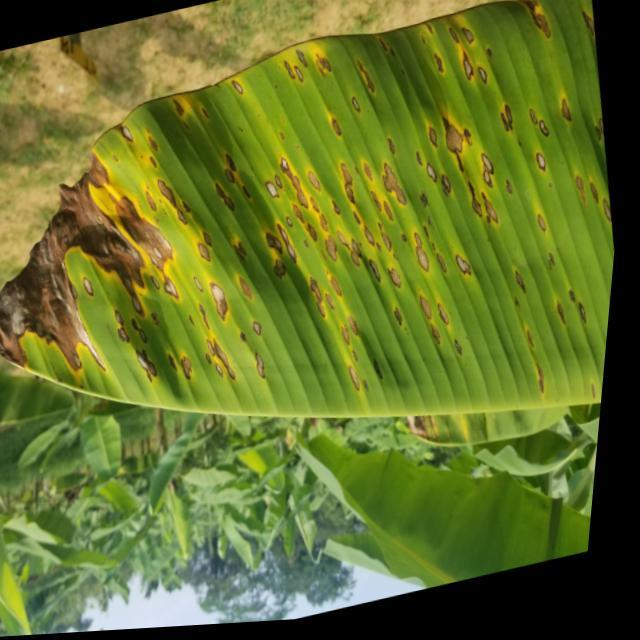Early_rust: (0, 0, 599, 404), (380, 403, 529, 461)
